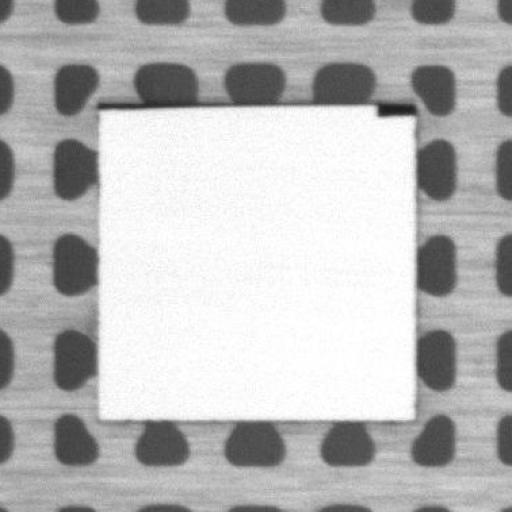DIE_BROKEN: (94, 96, 232, 109), (373, 96, 417, 120)
